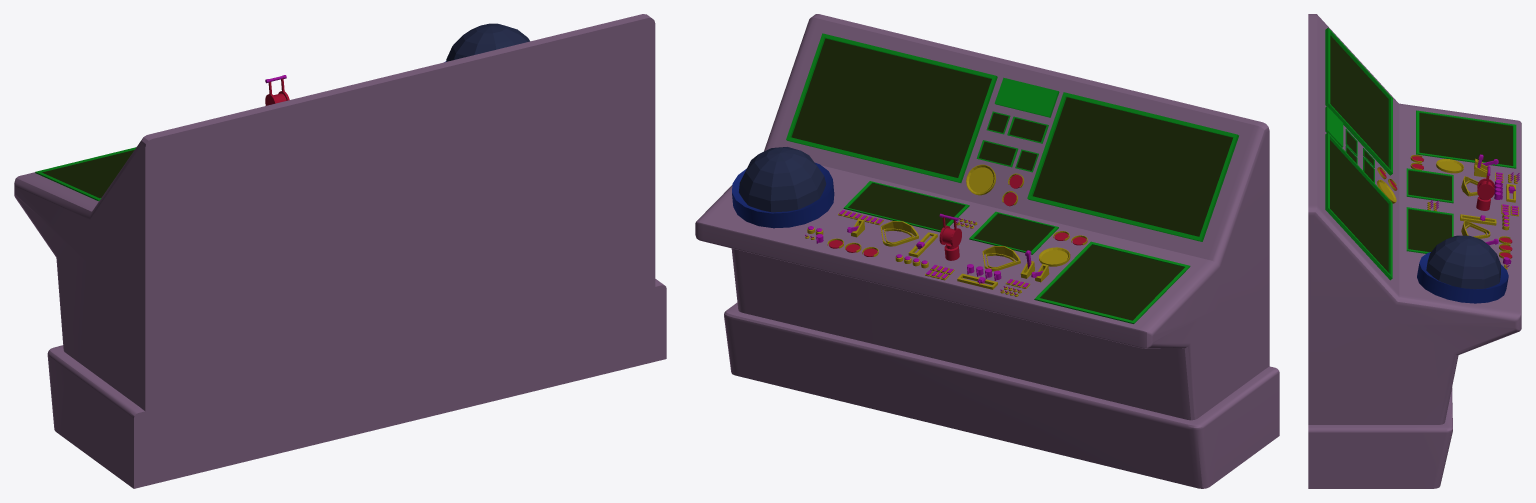
File: SM_Ordinateur.fbx
3 views of the same model, side by side, from view 1: azimuth 30°, elevation 25°; view 2: azimuth 150°, elevation 25°; view 3: azimuth 270°, elevation 25° (orthographic). The views are drawn at different scales.
Visible parts, largest first — view 1: SM_Ordinateur; view 2: SM_Ordinateur; view 3: SM_Ordinateur.
Boxes of the visible parts, <box> form: SM_Ordinateur: <box>14,14,666,488</box>; SM_Ordinateur: <box>695,14,1279,488</box>; SM_Ordinateur: <box>1308,14,1521,488</box>.
Bounding box in the file's own units: 128 × 79.18 × 55.64.
